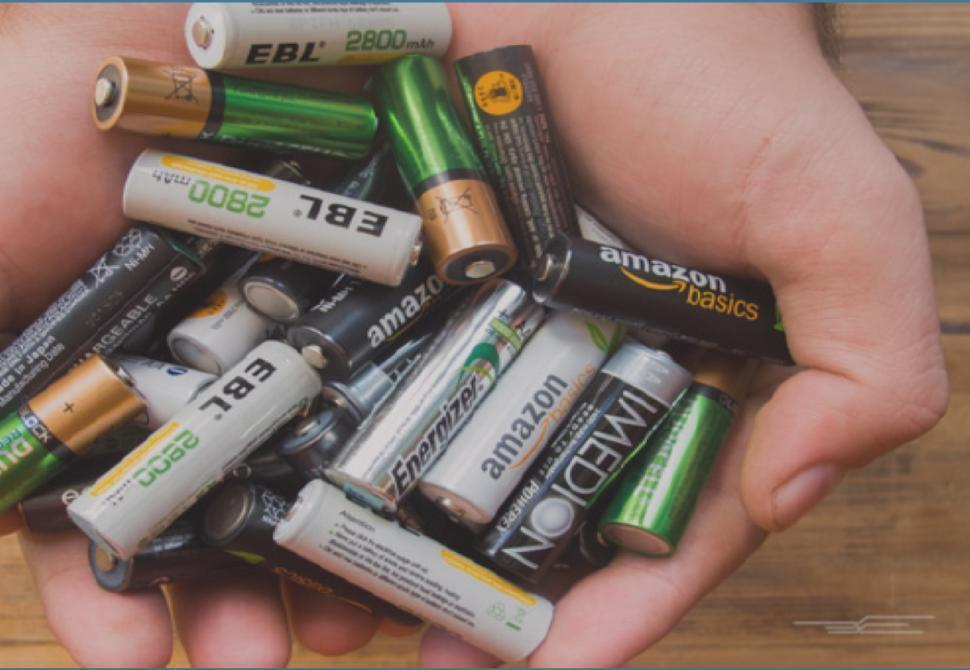AA: (66, 336, 329, 563), (320, 276, 553, 513), (274, 476, 556, 665), (418, 302, 635, 525), (121, 143, 426, 290), (368, 53, 524, 290), (529, 230, 796, 367), (87, 53, 381, 169), (183, 1, 456, 71)
